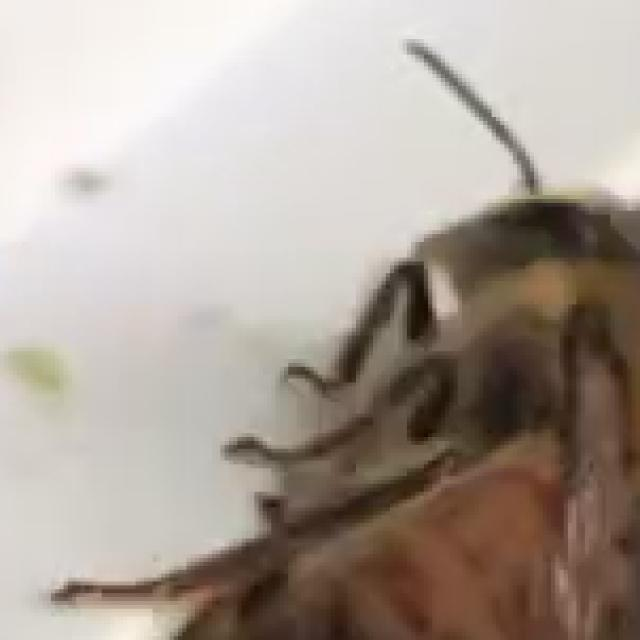honeybee: (220, 126, 640, 640)
